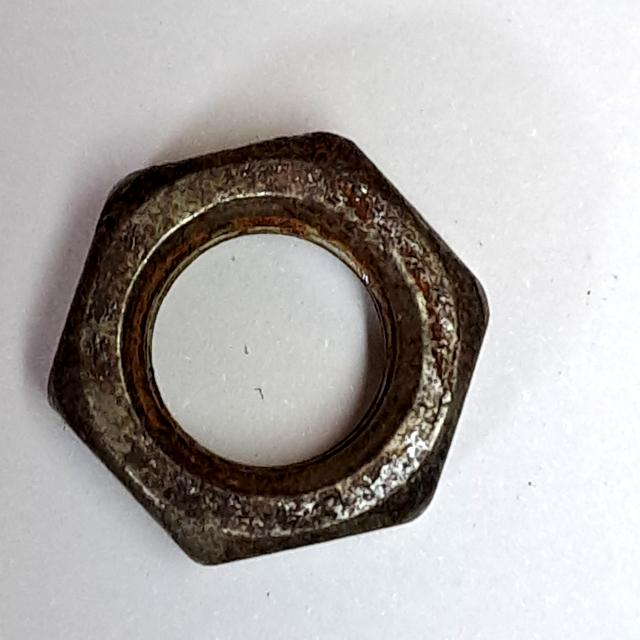Rust: (40, 120, 503, 580)
